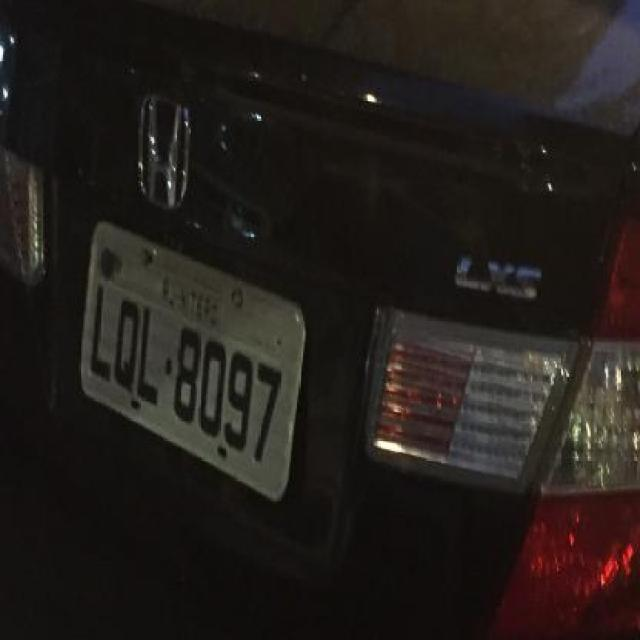old_plate: (73, 211, 311, 509)
